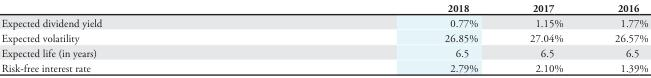table: (0, 0, 647, 75)
table column: (0, 0, 272, 75), (272, 0, 503, 75), (503, 0, 588, 75), (588, 0, 647, 75)
table column header: (0, 0, 647, 14)
table row: (0, 14, 647, 30), (0, 30, 647, 45), (0, 45, 647, 60), (0, 60, 647, 75), (0, 0, 647, 14)
